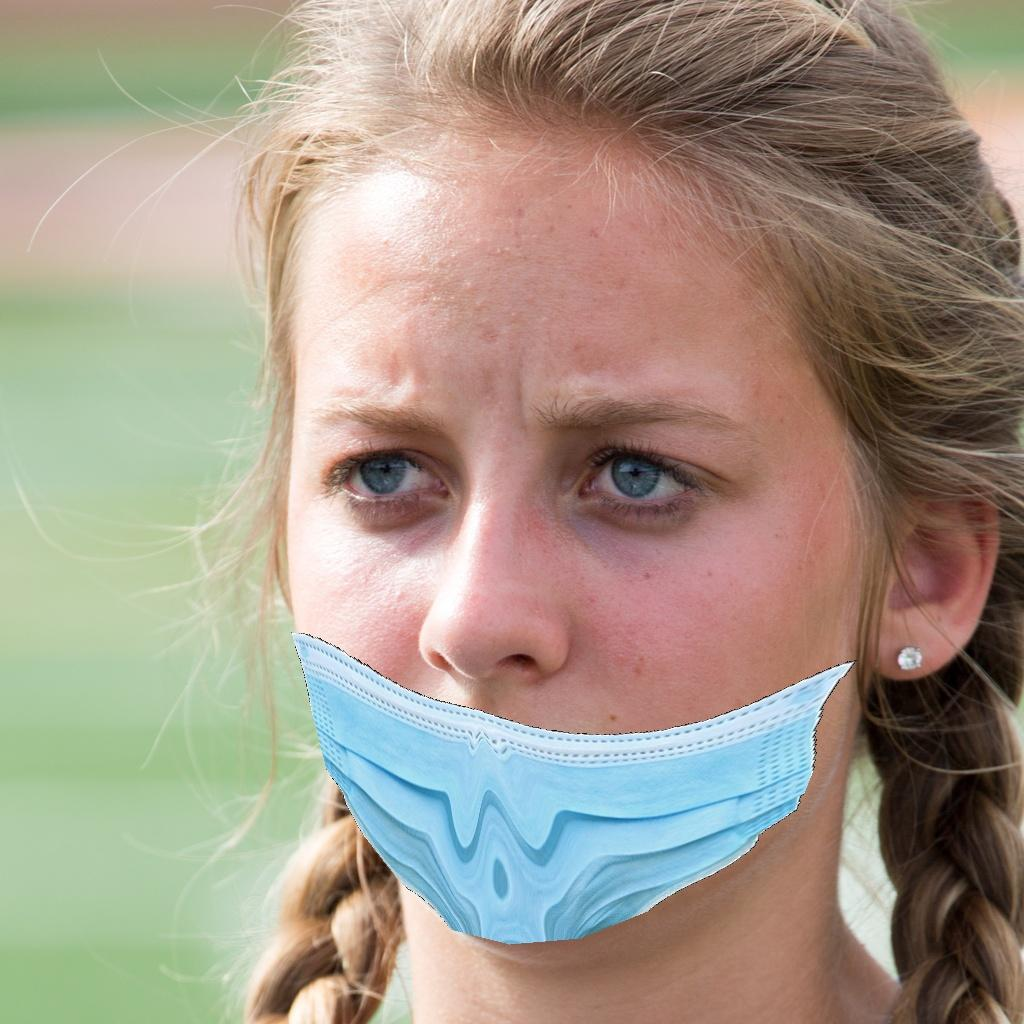Máscara Incorreta: (252, 300, 875, 936)
